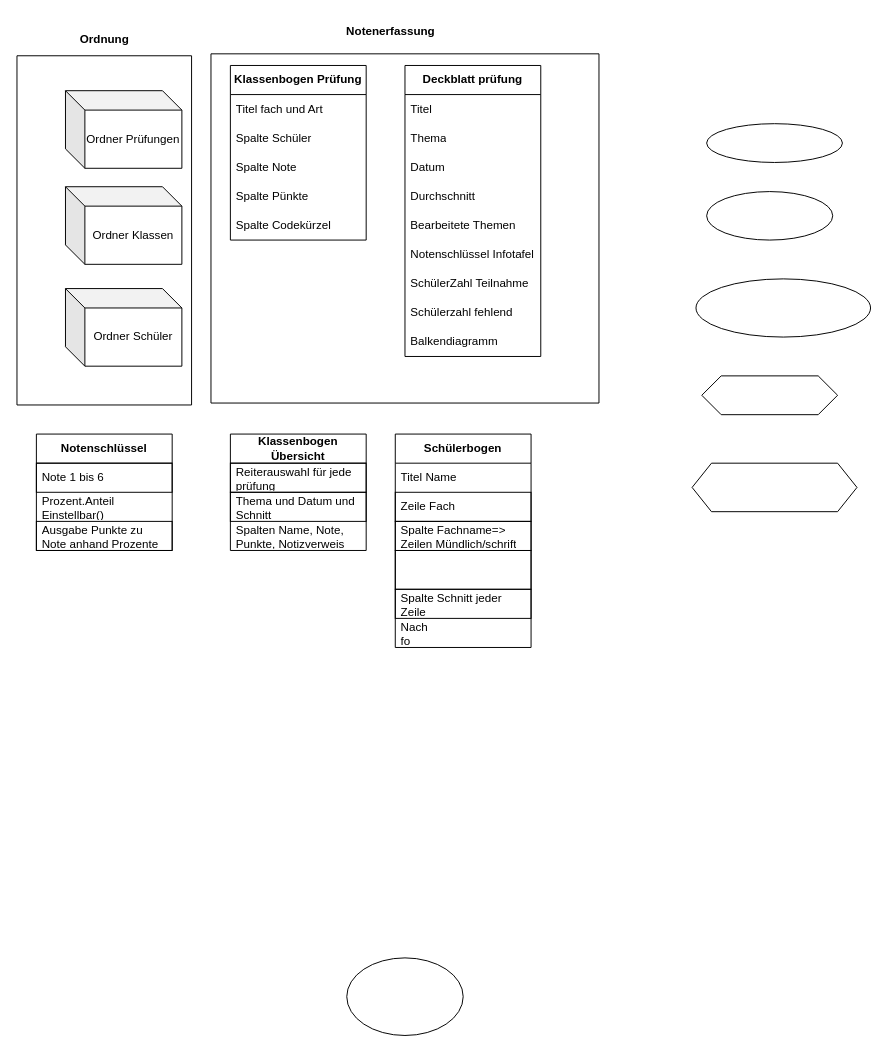
Image size: 888x1052. Some labels were removed from this diagram. The shapes that lost their labels are listed below. From the top down, each one's centre as x and y in pixels, then its label:
At point (774, 142): "Dropdown & Freifeld".
At point (769, 215): "Kalender view".
At point (783, 307): "Eintrag Klassenbogen & Schülerbogen".
At point (769, 395): "Eintrag Schülerbogen".
At point (774, 487): "Ausgabe: Noten als Säulen Darunter %".
At point (462, 569): "Spalte Auflistung d. Notenarten in Zeilen".
At point (404, 996): "kommentarfeld".
